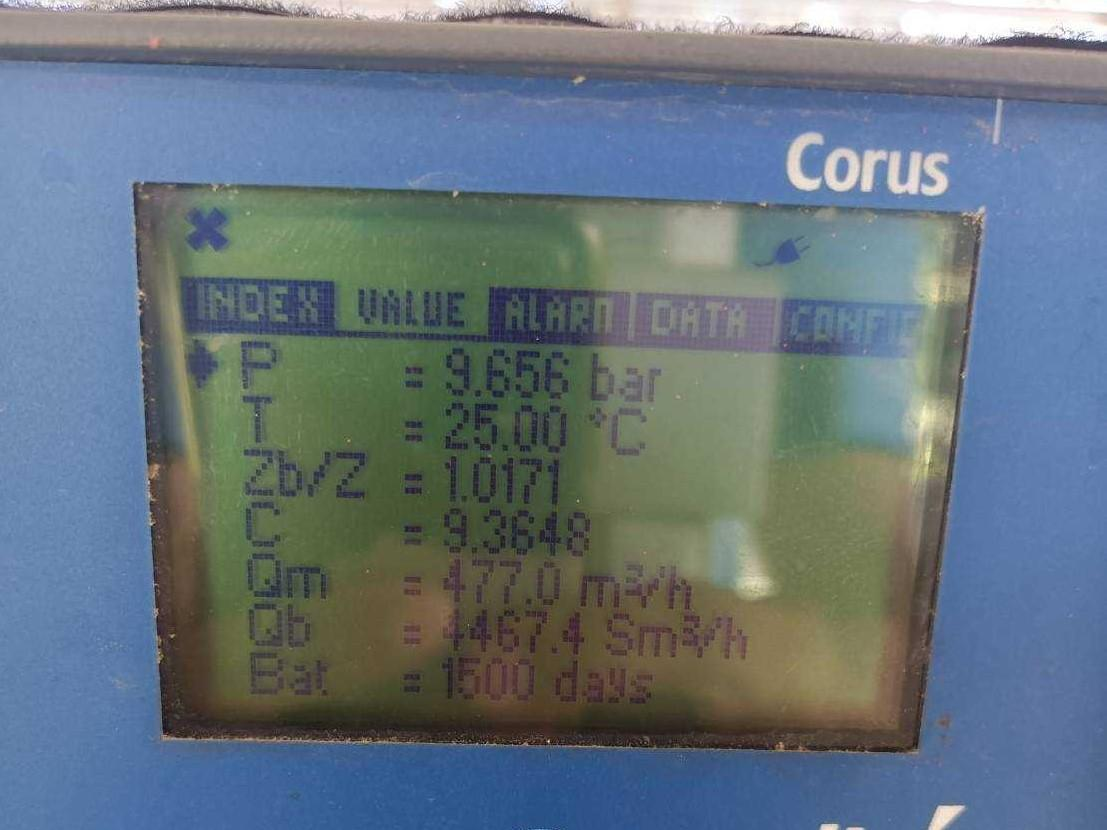digital_screen: (126, 182, 983, 751)
